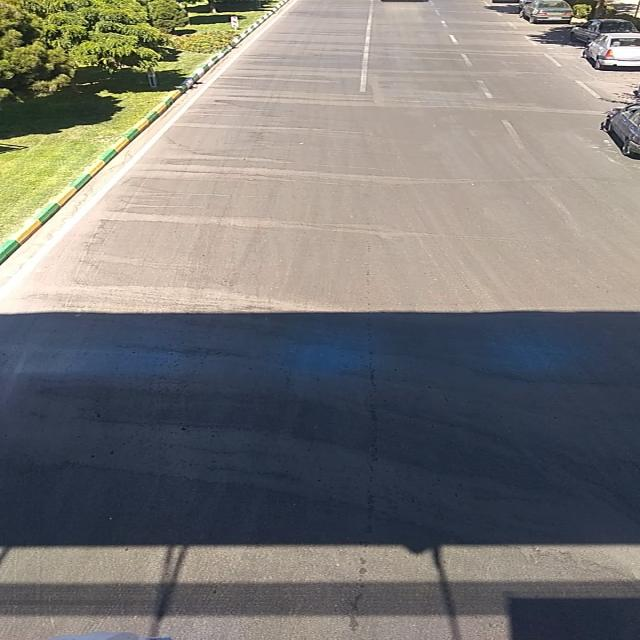car: (583, 33, 640, 69), (519, 2, 574, 24)
